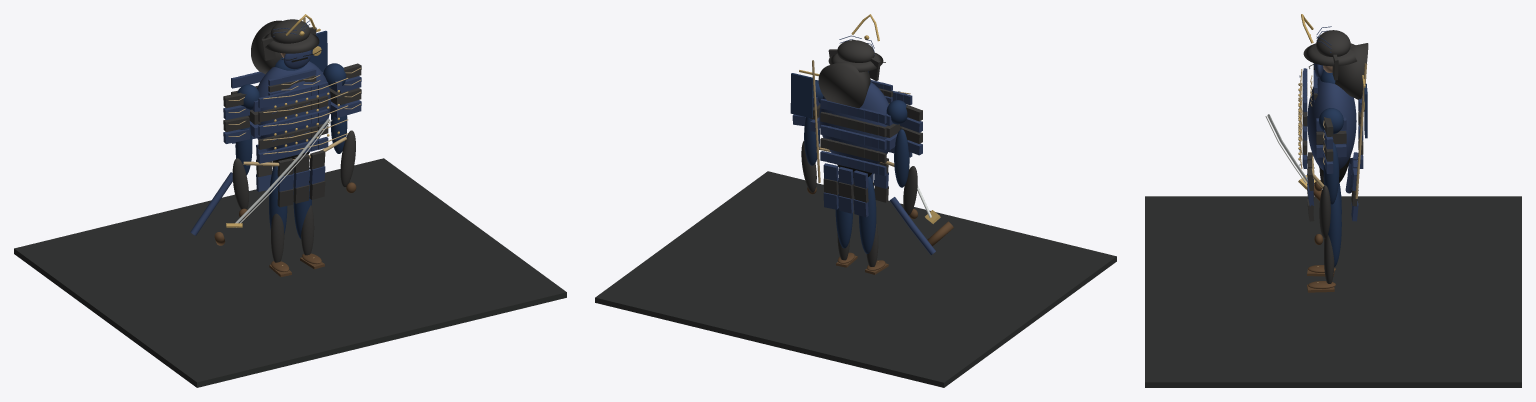
Rendered from actor-uesugi-06.glb.
3 renders of one model, left to right at view 1: azimuth 30°, elevation 25°; view 2: azimuth 150°, elevation 25°; view 3: azimuth 270°, elevation 25°, orthographic. The views are drawn at different scales.
Visible parts, largest first — view 1: matte charcoal inspection plinth, rounded do cuirass silhouette, rear shikoro neck guard flare, segmented kabuto helmet bowl, right kote forearm guard, left kote forearm guard, wide kabuto brim, left shin greave, left hakama trouser leg, lacquered saya scabbard at left hip, right shin greave, right armored upper arm; view 2: matte charcoal inspection plinth, rear shikoro neck guard flare, rounded do cuirass silhouette, cloth sashimono banner panel, left hakama trouser leg, left armored upper arm, segmented kabuto helmet bowl, right hakama trouser leg, left kote forearm guard, right armored upper arm, lacquered saya scabbard at left hip; view 3: matte charcoal inspection plinth, rounded do cuirass silhouette, rear shikoro neck guard flare, segmented kabuto helmet bowl, right hakama trouser leg, wide kabuto brim, right armored upper arm, right kote forearm guard, right shin greave, right shoulder undercloth, bamboo sashimono back pole.
Boxes of the visible parts, x1,y1,x2,y2 form: matte charcoal inspection plinth: (14, 158, 566, 387); rounded do cuirass silhouette: (257, 61, 330, 150); rear shikoro neck guard flare: (251, 20, 282, 74); segmented kabuto helmet bowl: (270, 19, 310, 43); right kote forearm guard: (340, 130, 355, 187); left kote forearm guard: (232, 158, 248, 209); wide kabuto brim: (261, 33, 319, 53); left shin greave: (271, 213, 284, 262); left hakama trouser leg: (269, 166, 287, 234); lacquered saya scabbard at left hip: (190, 172, 232, 235); right shin greave: (301, 205, 314, 255); right armored upper arm: (330, 104, 347, 153); matte charcoal inspection plinth: (595, 171, 1116, 387); rear shikoro neck guard flare: (818, 61, 870, 108); rounded do cuirass silhouette: (819, 82, 888, 163); cloth sashimono banner panel: (790, 73, 813, 118); left hakama trouser leg: (859, 176, 876, 253); left armored upper arm: (894, 129, 909, 187); segmented kabuto helmet bowl: (837, 40, 874, 62); right hakama trouser leg: (835, 180, 852, 248); left kote forearm guard: (903, 166, 917, 215); right armored upper arm: (804, 117, 819, 165); lacquered saya scabbard at left hip: (889, 197, 935, 254); matte charcoal inspection plinth: (1145, 196, 1521, 387); rounded do cuirass silhouette: (1307, 78, 1356, 170); rear shikoro neck guard flare: (1335, 43, 1368, 99); segmented kabuto helmet bowl: (1316, 30, 1350, 56); right hakama trouser leg: (1328, 189, 1341, 267); wide kabuto brim: (1303, 43, 1356, 66); right armored upper arm: (1323, 142, 1339, 204); right kote forearm guard: (1319, 185, 1330, 238); right shin greave: (1324, 235, 1334, 283); right shoulder undercloth: (1319, 108, 1343, 134); bamboo sashimono back pole: (1355, 63, 1367, 198).
Bounding box in the file's own units: 4.2 × 2.96 × 3.6.
